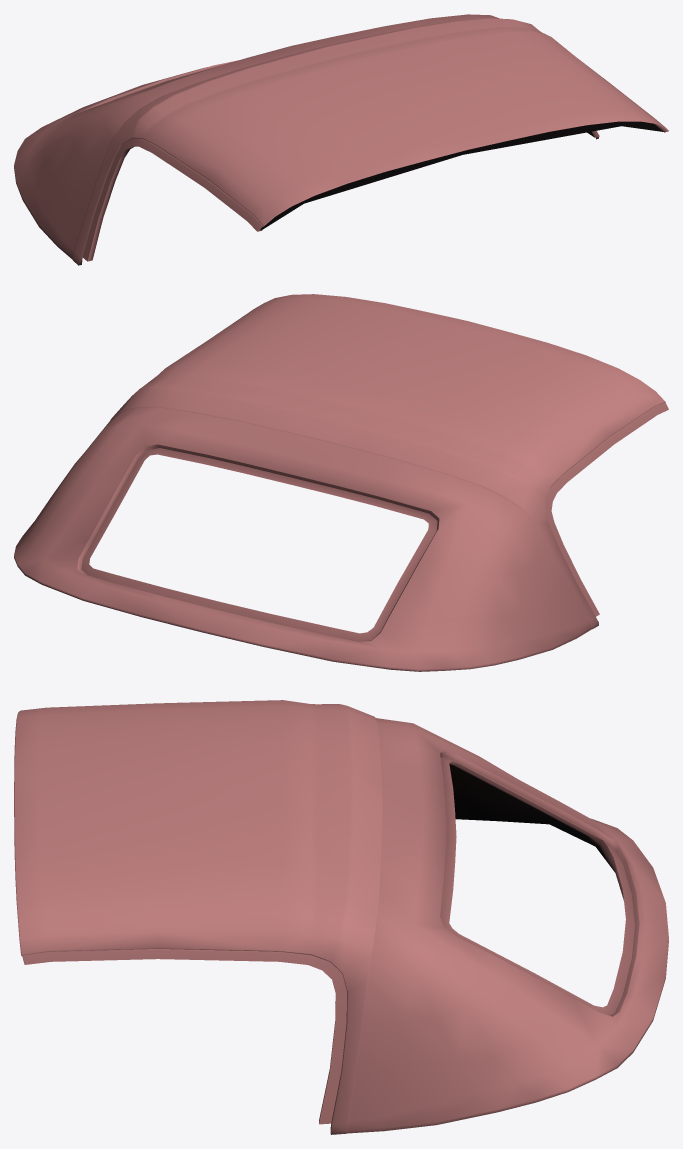
The model's file is MX5_Roof01_Trim1.fbx.
3 views of the same model, one above another, from view 1: azimuth 30°, elevation 25°; view 2: azimuth 150°, elevation 25°; view 3: azimuth 270°, elevation 25° (orthographic). The views are drawn at different scales.
Parts seen in each view (by area): view 1: MX5_Roof01_Trim1; view 2: MX5_Roof01_Trim1; view 3: MX5_Roof01_Trim1.
Boxes of the visible parts, <box> form: MX5_Roof01_Trim1: <box>14,14,668,265</box>; MX5_Roof01_Trim1: <box>14,294,668,671</box>; MX5_Roof01_Trim1: <box>14,700,668,1134</box>.
Size of the model in its own units: 141 by 40.28 by 125.
